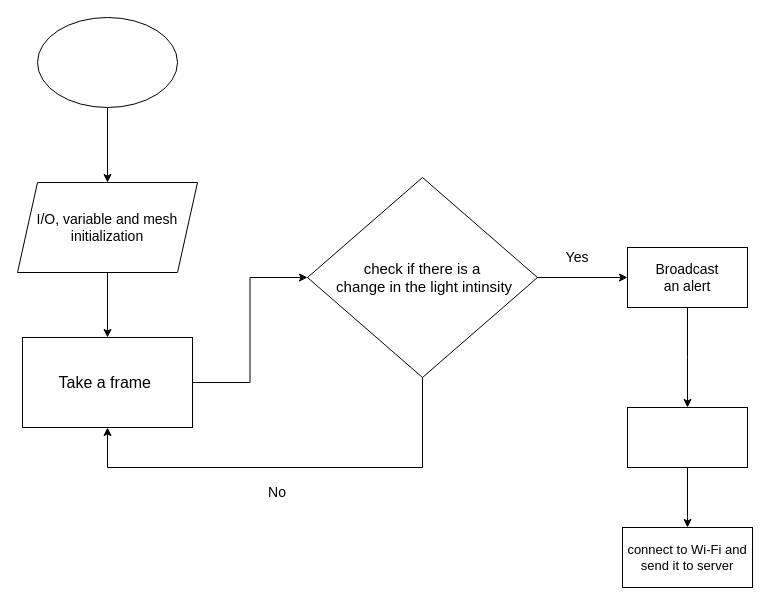
This 770x605 diagram has some shape labels left out. Each missing label, with the box of its shape:
begin: (36, 16, 178, 108)
Master receives alert: (626, 406, 748, 468)
